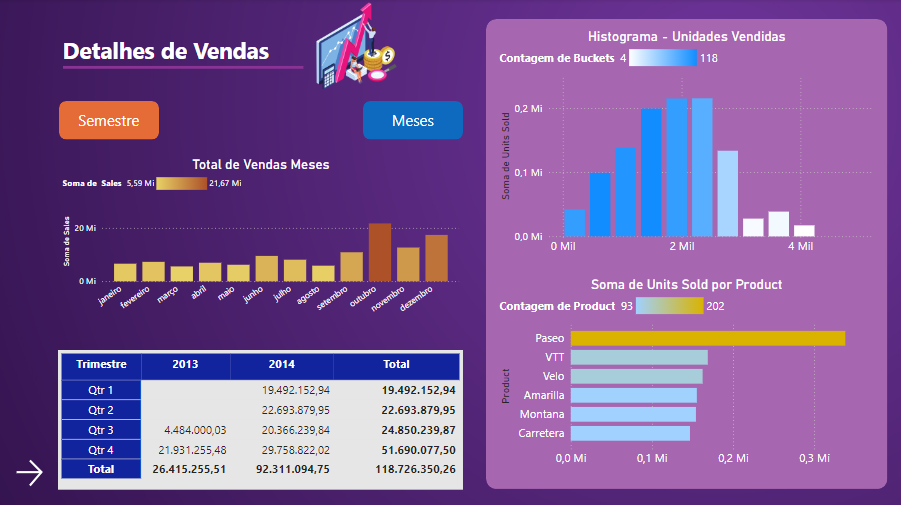

The page's visual inventory and layout, read from the dashboard file:
{"tool":"powerbi","page":{"name":"Detalhes","canvas":[1280,720],"ordinal":2},"visuals":[{"type":"group","id":"g1","title":"Layout","box":[0,0,86,719.9],"z":0},{"type":"shape","box":[0,0,86,719.9],"z":0,"group":"g1"},{"type":"shape","box":[692.1,29.1,569.1,666.5],"z":0,"group":"g6"},{"type":"group","id":"g2","title":"Title report","box":[87.2,39.3,365.7,114.5],"z":0,"group":"g3"},{"type":"shape","box":[92.8,39.3,340.7,114.4],"z":0,"group":"g2"},{"type":"actionButton","box":[87.2,145.3,141.8,54.7],"z":0,"group":"g7"},{"type":"actionButton","box":[517.9,145.3,141.8,54.7],"z":0,"group":"g5"},{"type":"columnChart","title":"Vendas por Semestre","fields":{"Y":["financials.Total Sales primeiro Semestre","financials.Total Sales segundo Semestre"],"Category":["financials.Date.Variation.Hierarquia de datas.Ano"]},"box":[87.2,223.9,572.5,242.7],"z":0,"group":"g4"},{"type":"group","id":"g3","title":"Cabeçalho","box":[87.2,0,500.9,153.8],"z":500},{"type":"image","box":[430.3,0,157.8,132.7],"z":1000,"group":"g3"},{"type":"clusteredColumnChart","title":"Histograma - Unidades Vendidas","fields":{"Category":["financials.Buckets"],"Y":["Sum(financials.Units Sold)"]},"box":[706.5,41.5,540.6,330.4],"z":1000,"group":"g6"},{"type":"textbox","box":[87.2,44.7,365.8,57.2],"z":1000,"group":"g2"},{"type":"group","id":"g4","title":"Vendas","box":[87.2,145.3,572.5,321.3],"z":1000},{"type":"textbox","box":[97.5,152.1,121.3,39.3],"z":1000,"group":"g7"},{"type":"textbox","box":[528.2,152.1,121.3,39.3],"z":1000,"group":"g5"},{"type":"actionButton","title":"Botão - next","box":[19.7,647.2,66.1,48.3],"z":1000,"group":"g1"},{"type":"group","id":"g5","title":"Botão meses","box":[517.9,145.3,141.8,54.7],"z":2000,"group":"g4"},{"type":"clusteredBarChart","fields":{"Category":["financials.Product"],"Y":["Sum(financials.Units Sold)"]},"box":[706.5,393.3,540.6,278.9],"z":2000,"group":"g6"},{"type":"pivotTable","fields":{"Rows":["financials.Date.Variation.Hierarquia de datas.Trimestre"],"Columns":["financials.Date.Variation.Hierarquia de datas.Ano"],"Values":["Sum(financials. Sales)"]},"box":[85.4,497.3,574.2,198.2],"z":2000},{"type":"group","id":"g6","title":"Vendas detalhes","box":[692.1,29.1,569.1,666.5],"z":3000},{"type":"group","id":"g7","title":"Botão semestre","box":[87.2,145.3,141.8,54.7],"z":3000,"group":"g4"}]}

Visuals, with their boxes in screenshot pixels (x1, y1, x2, y2), scaled from the page's 1280x720 canvas onto the 901x505 screenshot:
"Layout" group: <bbox>0, 0, 61, 504</bbox>
shape: <bbox>0, 0, 61, 504</bbox>
shape: <bbox>487, 20, 888, 488</bbox>
"Title report" group: <bbox>61, 28, 319, 108</bbox>
shape: <bbox>65, 28, 305, 108</bbox>
actionButton: <bbox>61, 102, 161, 140</bbox>
actionButton: <bbox>365, 102, 464, 140</bbox>
"Vendas por Semestre" columnChart: <bbox>61, 157, 464, 327</bbox>
"Cabeçalho" group: <bbox>61, 0, 414, 108</bbox>
image: <bbox>303, 0, 414, 93</bbox>
"Histograma - Unidades Vendidas" clusteredColumnChart: <bbox>497, 29, 878, 261</bbox>
textbox: <bbox>61, 31, 319, 71</bbox>
"Vendas" group: <bbox>61, 102, 464, 327</bbox>
textbox: <bbox>69, 107, 154, 134</bbox>
textbox: <bbox>372, 107, 457, 134</bbox>
"Botão - next" actionButton: <bbox>14, 454, 60, 488</bbox>
"Botão meses" group: <bbox>365, 102, 464, 140</bbox>
clusteredBarChart - financials.Product x Sum(financials.Units Sold): <bbox>497, 276, 878, 471</bbox>
pivotTable - financials.Date.Variation.Hierarquia de datas.Trimestre x financials.Date.Variation.Hierarquia de datas.Ano: <bbox>60, 349, 464, 488</bbox>
"Vendas detalhes" group: <bbox>487, 20, 888, 488</bbox>
"Botão semestre" group: <bbox>61, 102, 161, 140</bbox>
